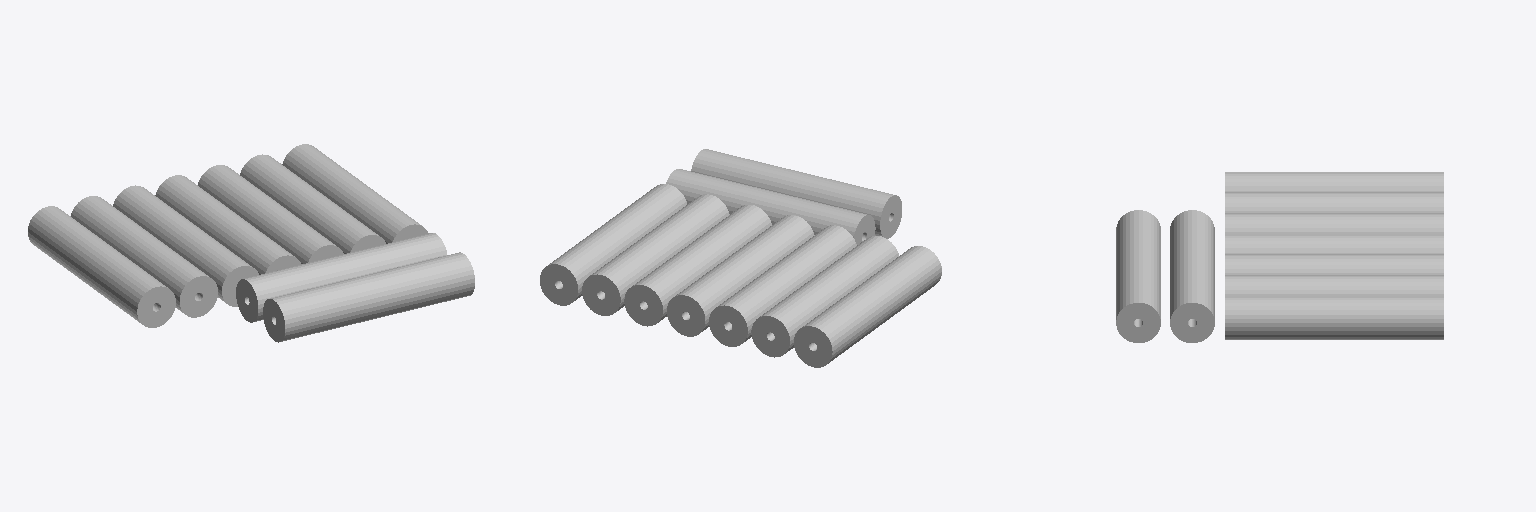
File: conveyor_corner.obj
3 views of the same model, side by side, from view 1: azimuth 30°, elevation 25°; view 2: azimuth 150°, elevation 25°; view 3: azimuth 270°, elevation 25° (orthographic).
Parts seen in each view (by area): view 1: corner; view 2: corner; view 3: corner.
Boxes of the visible parts, x1,y1,x2,y2 form: corner: [28, 144, 474, 342]; corner: [540, 149, 941, 367]; corner: [1116, 172, 1443, 342].
Bounding box in the file's own units: 1.54 × 0.2047 × 1.49.